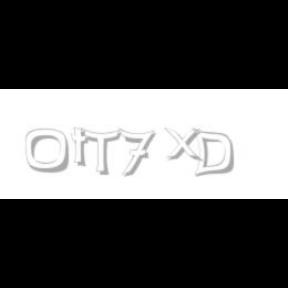7: (118, 128, 156, 178)
D: (192, 128, 234, 178)
O: (25, 128, 70, 174)
T: (81, 128, 121, 176)
t: (71, 128, 93, 168)
x: (164, 128, 206, 162)
